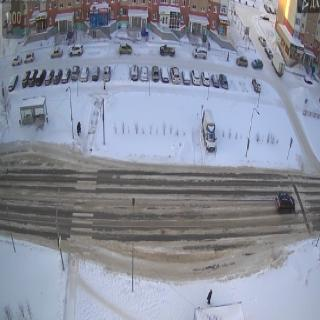large-vehicle: (201, 106, 217, 152)
small-vehicle: (274, 191, 294, 216), (68, 55, 81, 84), (198, 64, 210, 88), (66, 41, 85, 56), (220, 68, 230, 95), (139, 62, 150, 84), (150, 63, 160, 85), (170, 64, 180, 86), (28, 64, 38, 86), (160, 41, 174, 56), (60, 66, 70, 87), (7, 72, 18, 91), (91, 60, 100, 83), (182, 68, 192, 88), (35, 68, 46, 86), (194, 45, 208, 59), (81, 62, 89, 86), (235, 55, 248, 69), (191, 65, 200, 85), (42, 69, 54, 84), (211, 70, 219, 92), (49, 46, 62, 59), (104, 64, 112, 82), (130, 65, 138, 82), (22, 66, 28, 88), (119, 44, 132, 54), (11, 54, 21, 66), (252, 57, 262, 69), (253, 80, 261, 94), (164, 65, 170, 83), (24, 54, 37, 61), (56, 66, 60, 80)
